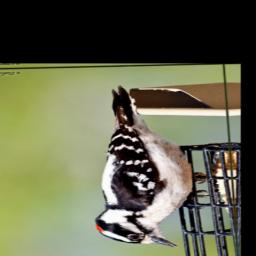Woodpecker: (81, 81, 213, 250)
